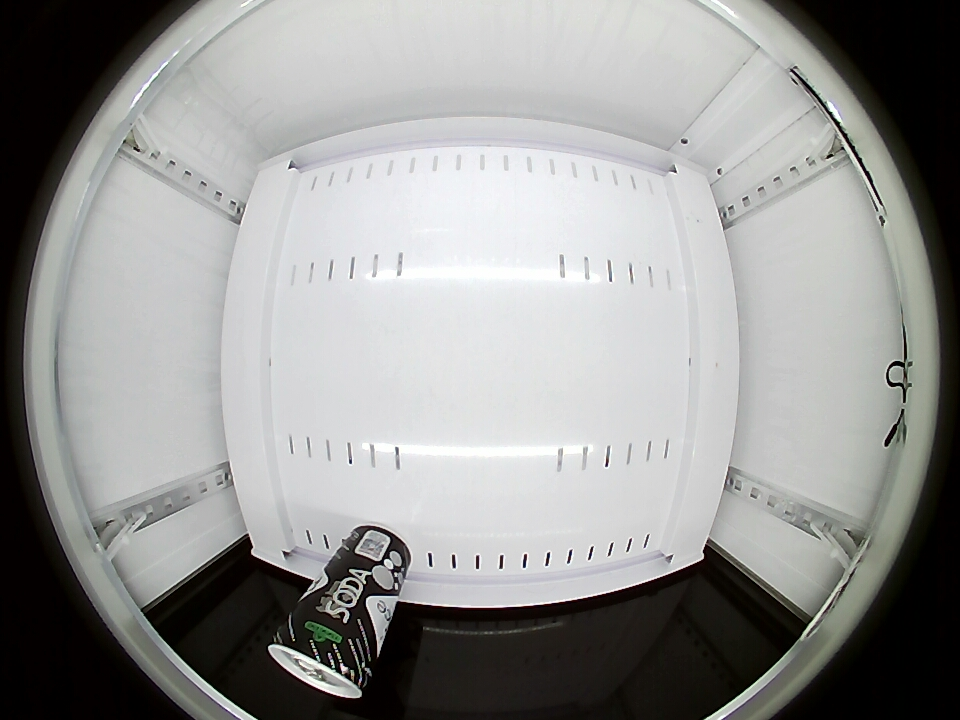qingdaowangzi-1: (270, 608, 374, 700)
